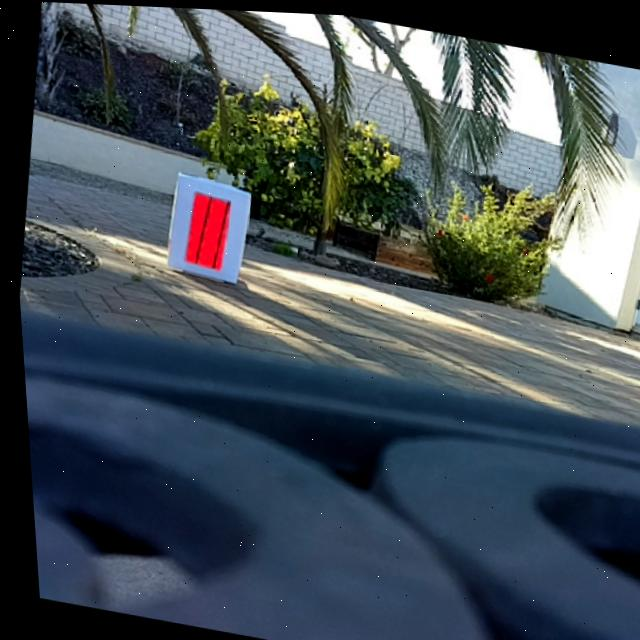led: (179, 188, 232, 270)
